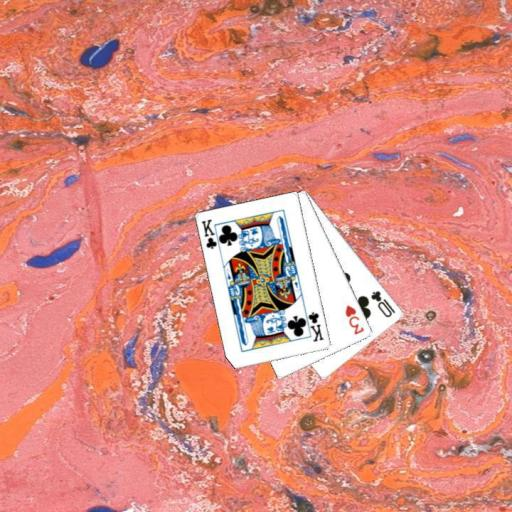10C: (368, 288, 397, 320)
3H: (342, 303, 366, 337)
KC: (301, 307, 325, 344), (199, 216, 223, 253)
